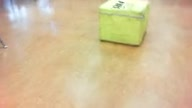cube: (98, 1, 150, 47)
